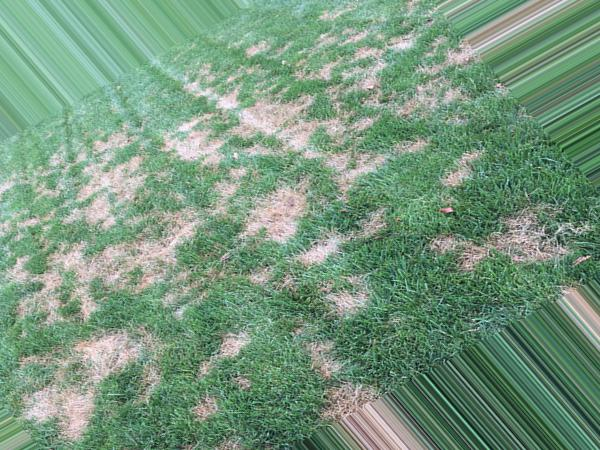patch: (64, 130, 317, 254), (228, 65, 354, 133), (52, 355, 88, 423)
